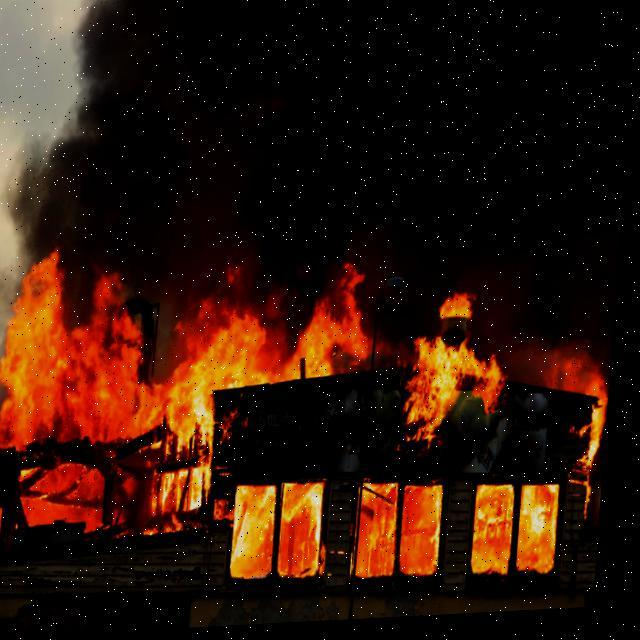Fire: (0, 246, 374, 600), (409, 290, 524, 454), (360, 481, 453, 588), (478, 483, 570, 584), (582, 397, 612, 520)
